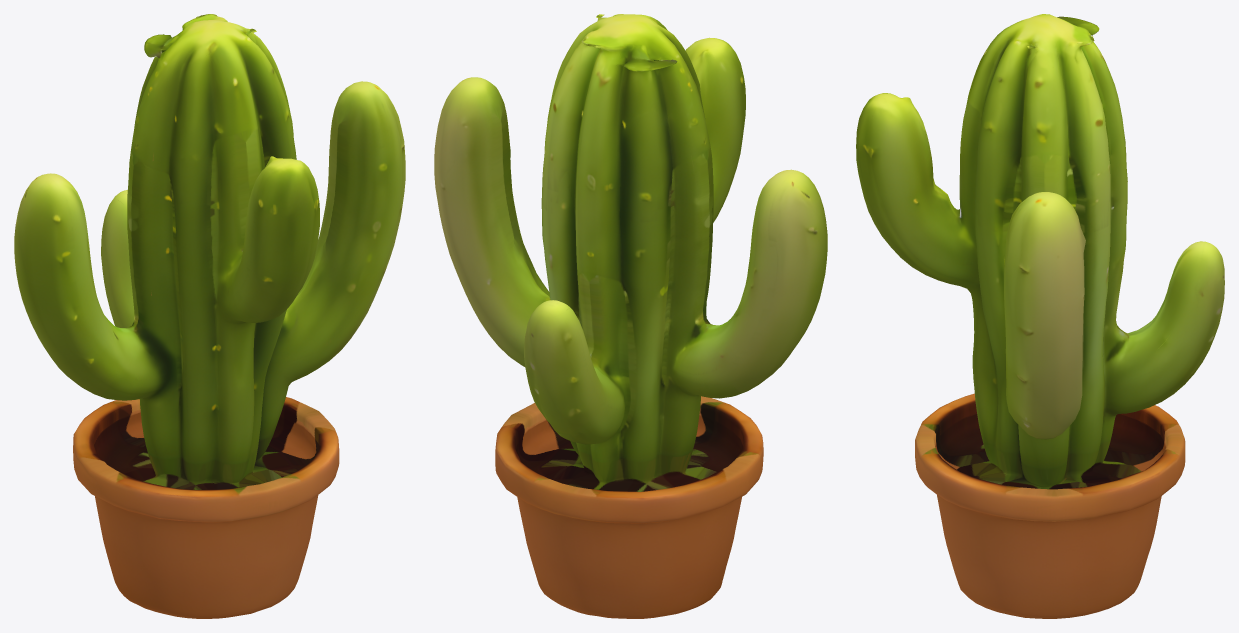
Rendered from cactus_base_basic_shaded.glb.
3 renders of one model, left to right at view 1: azimuth 30°, elevation 25°; view 2: azimuth 150°, elevation 25°; view 3: azimuth 270°, elevation 25°, orthographic.
Parts seen in each view (by area): view 1: model; view 2: model; view 3: model.
Boxes of the visible parts, left/top/right/bottom form: model: left=14, top=14, right=405, bottom=618; model: left=434, top=14, right=827, bottom=618; model: left=856, top=14, right=1224, bottom=618.
Bounding box in the file's own units: 1.34 × 1.89 × 1.12.
Materials: 1 (1 with a texture image).
